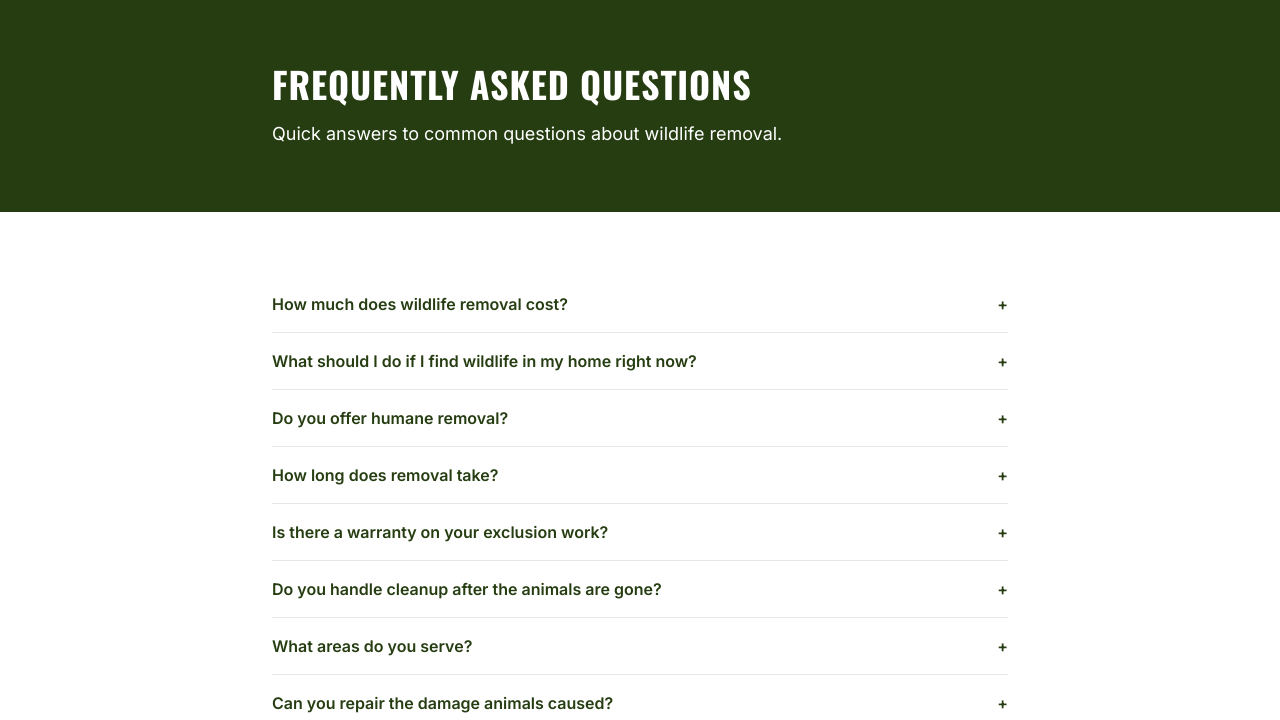
it: FAQ › clicking an open question again hides the answer
The image size is (1280, 720).
Click the button "How much does wildlife removal cost? +" at (420, 304), box [272,292,1008,316]
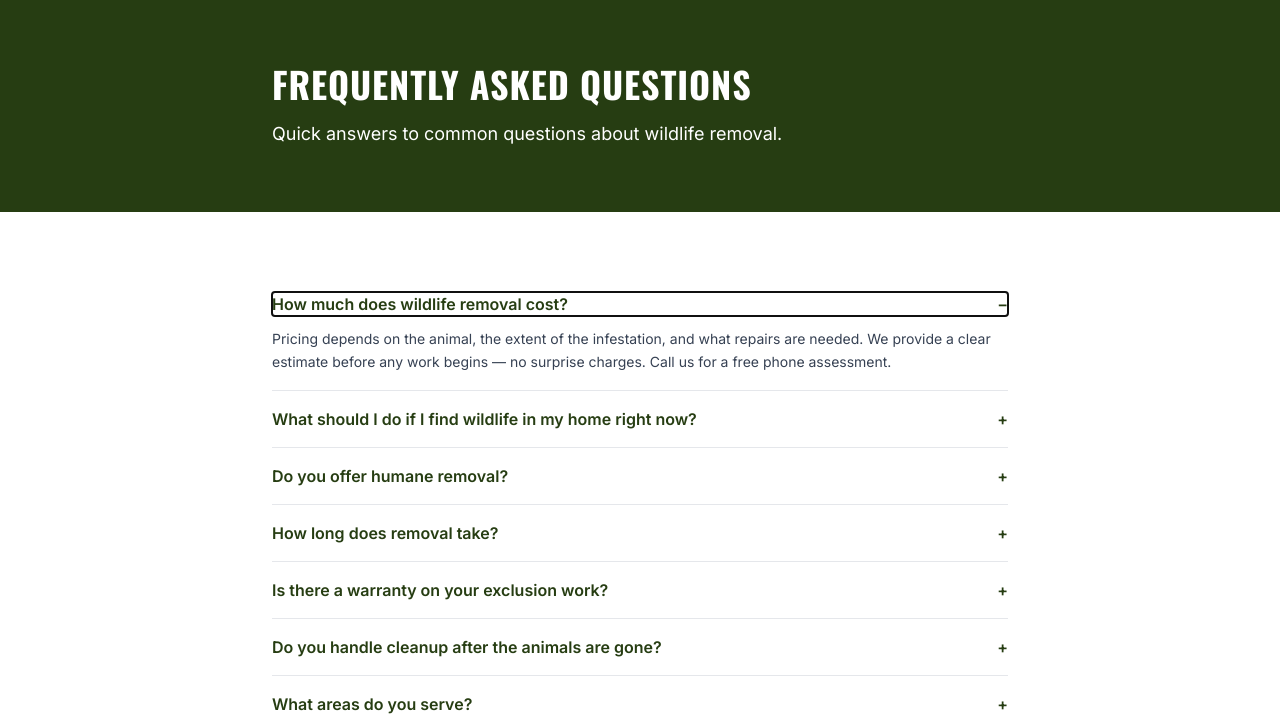
Expected: the text "Pricing depends on the animal" is shown, [272,330,991,370]
Click the button "How much does wildlife removal cost? −" at (420, 304), box [272,292,1008,316]
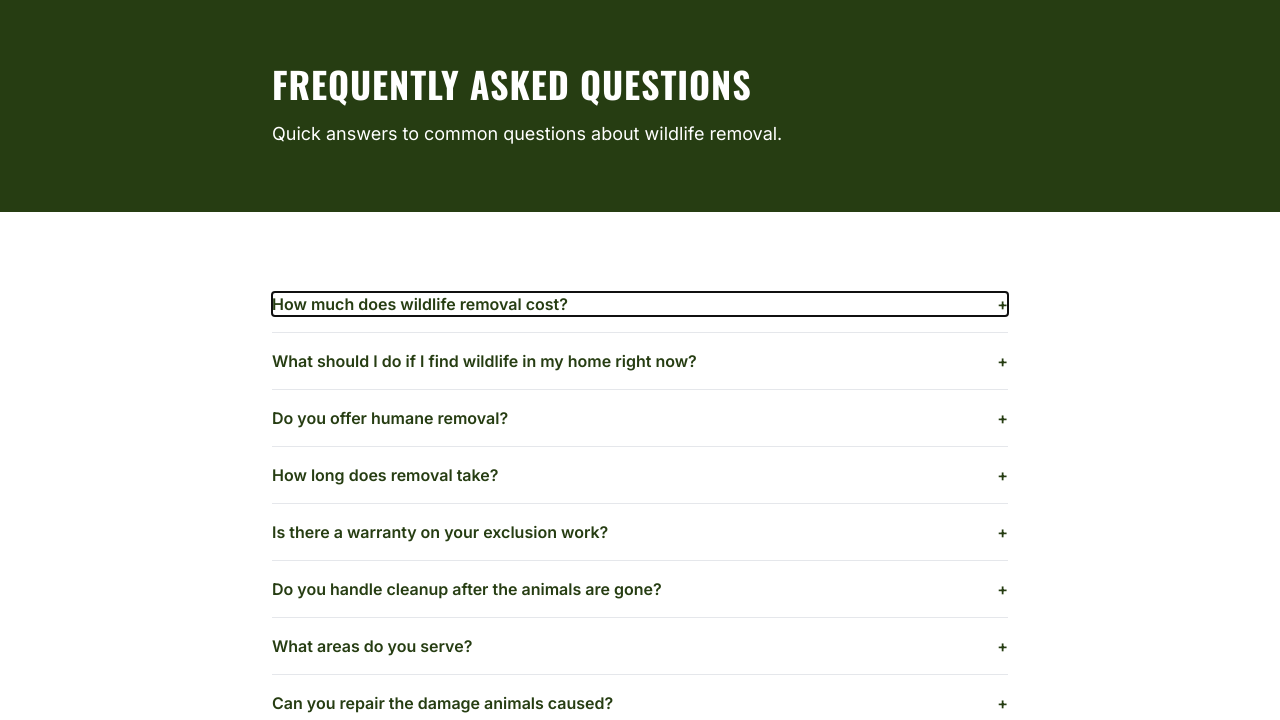
Expected: the text "Pricing depends on the animal" is gone
